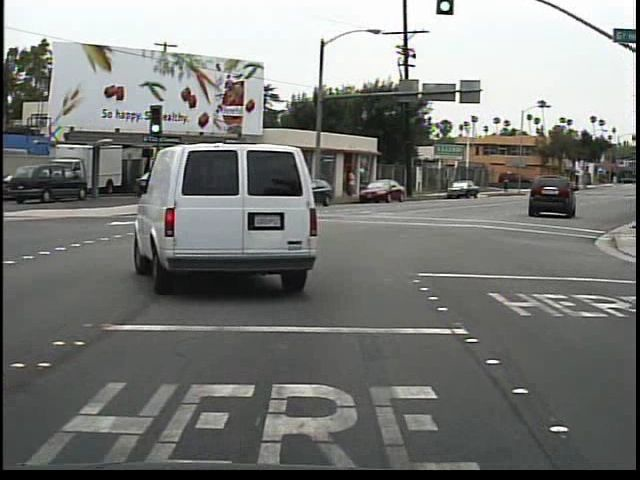person: (343, 162, 357, 200), (501, 175, 511, 195)
